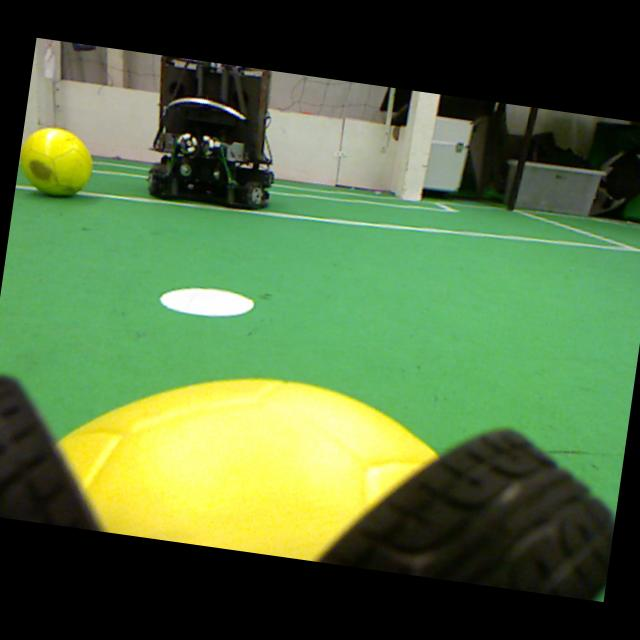ball: (54, 380, 440, 561), (20, 129, 92, 196)
goal: (402, 92, 440, 202)
robot: (148, 55, 274, 210)
